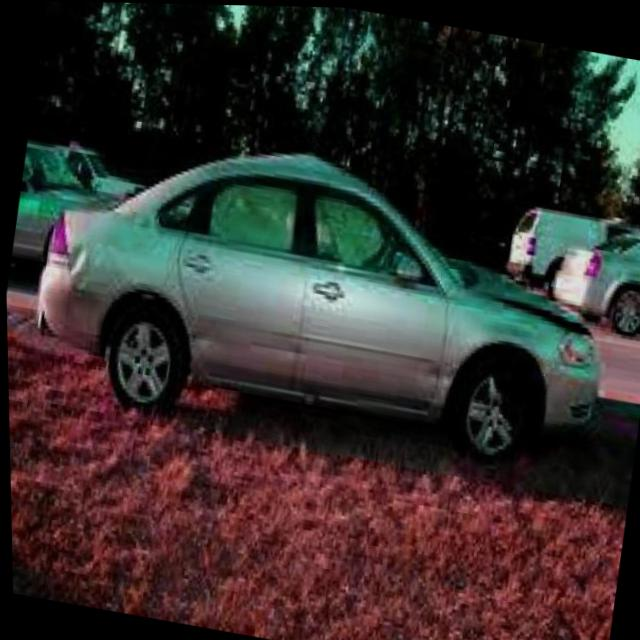Car-Damage: (181, 306, 455, 405), (482, 280, 593, 341), (55, 234, 99, 296)
